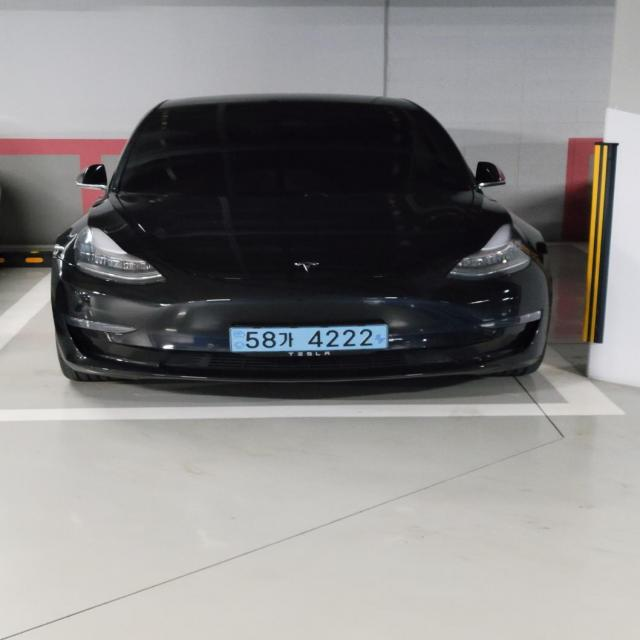EV_plate: (224, 319, 394, 360)
car: (48, 89, 553, 393)
